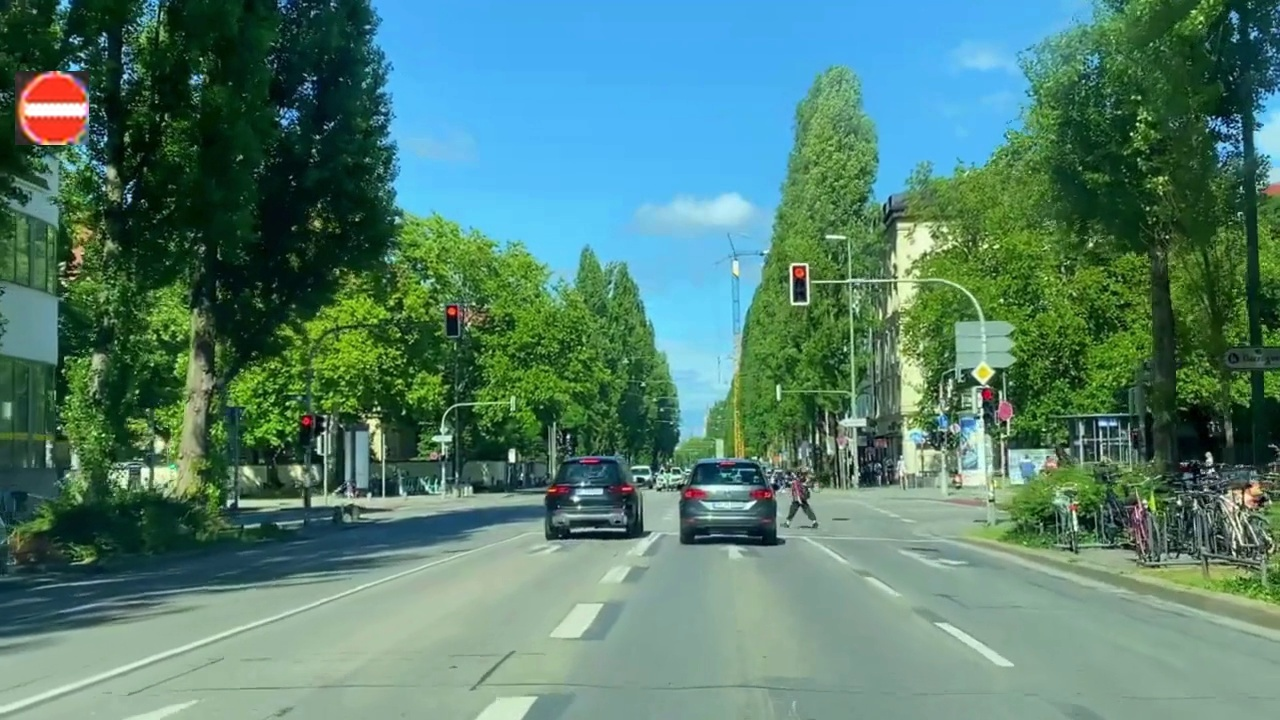No entry: (15, 71, 89, 145)
